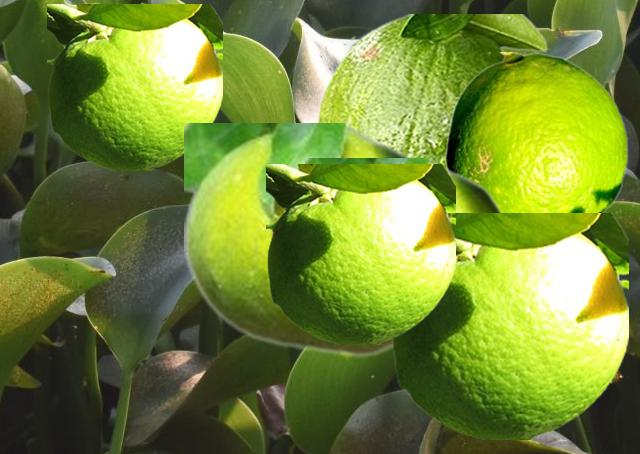dalandan: (184, 123, 420, 357), (391, 213, 627, 438), (316, 14, 547, 164), (266, 164, 454, 343), (445, 52, 627, 212), (47, 4, 221, 169), (305, 158, 506, 212)
